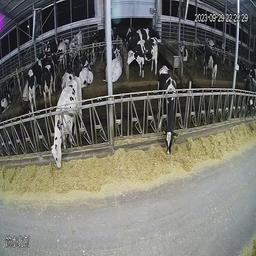cow: (51, 73, 82, 170), (156, 62, 179, 156), (128, 37, 159, 78), (198, 40, 219, 89), (41, 51, 58, 109), (123, 23, 156, 52), (26, 58, 44, 111), (92, 25, 119, 57), (101, 48, 124, 85), (242, 74, 255, 131), (78, 51, 94, 87), (56, 35, 70, 74), (67, 27, 83, 60), (45, 36, 64, 58), (84, 43, 97, 66), (0, 86, 10, 115), (179, 42, 190, 64)
